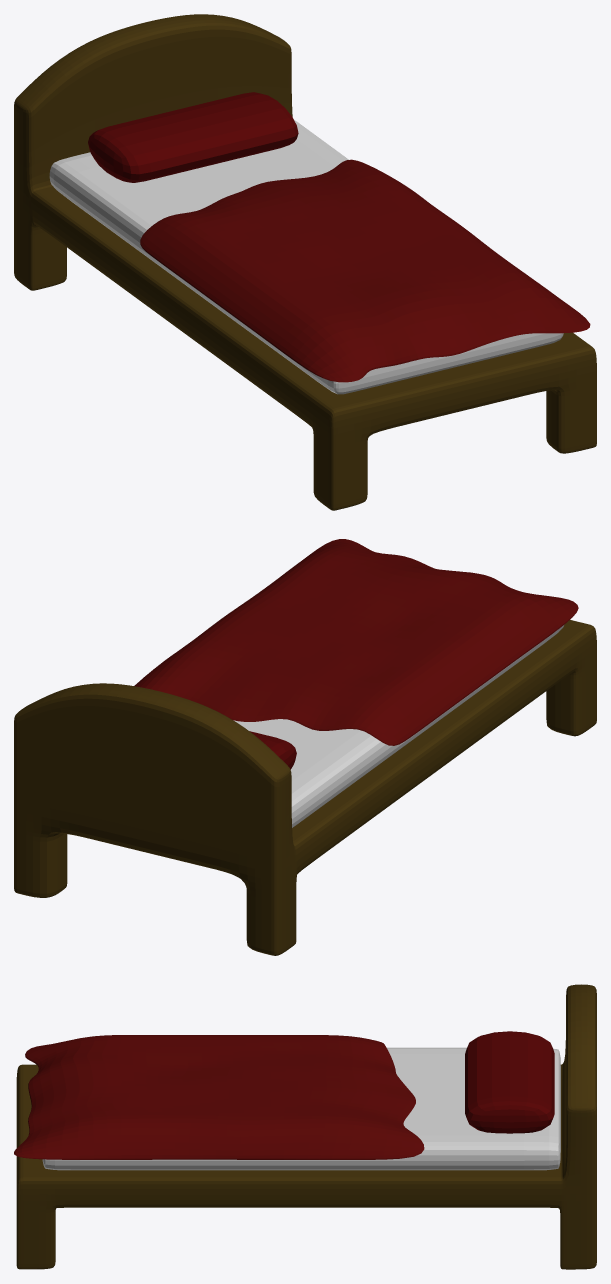
Rendered from SU_bed.fbx.
The picture shows the model from 3 angles, top to bottom: view 1: azimuth 30°, elevation 25°; view 2: azimuth 150°, elevation 25°; view 3: azimuth 270°, elevation 25°; orthographic projection. The views are drawn at different scales.
Visible parts, largest first — view 1: Cube, Plane, Cube.001, Cube.002; view 2: Cube, Plane, Cube.001, Cube.002; view 3: Plane, Cube, Cube.001, Cube.002.
Part boxes in pixels (<box>): Cube: <box>14,14,596,510</box>; Plane: <box>140,159,590,382</box>; Cube.001: <box>49,120,563,394</box>; Cube.002: <box>88,92,298,182</box>; Cube: <box>14,620,596,955</box>; Plane: <box>134,539,578,745</box>; Cube.001: <box>233,625,563,827</box>; Cube.002: <box>249,731,296,769</box>; Plane: <box>14,1035,424,1159</box>; Cube: <box>16,984,596,1269</box>; Cube.001: <box>42,1047,560,1170</box>; Cube.002: <box>465,1031,554,1133</box>.
Size of the model in its own units: 425 by 345 by 892.
